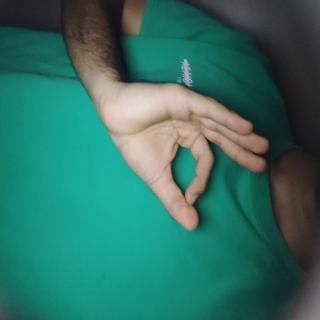Space: (53, 60, 176, 297)
